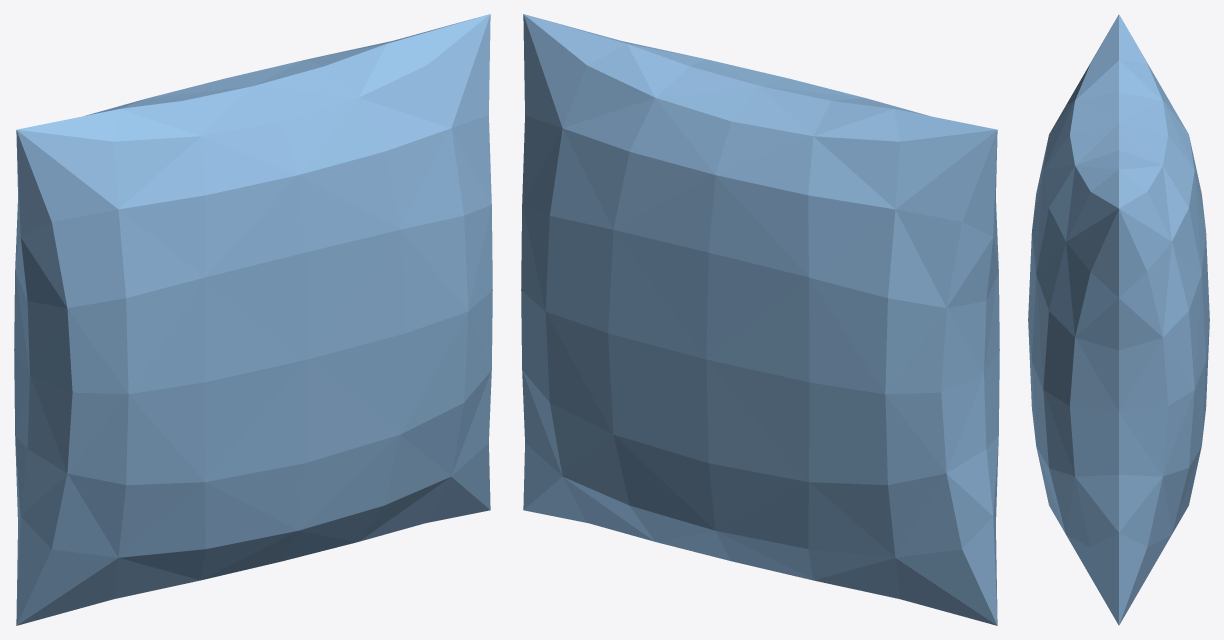
Rendered from 503 Cushions.gltf.
The picture shows the model from 3 angles, left to right: view 1: azimuth 30°, elevation 25°; view 2: azimuth 150°, elevation 25°; view 3: azimuth 270°, elevation 25°; orthographic projection. The views are drawn at different scales.
Visible parts, largest first — view 1: node-0; view 2: node-0; view 3: node-0.
Part boxes in pixels (bbox=[...]): node-0: bbox=[14, 14, 492, 625]; node-0: bbox=[521, 14, 999, 625]; node-0: bbox=[1028, 14, 1209, 625].
Bounding box in the file's own units: 79.84 × 79.84 × 31.52.
1 material, 1 textured.
